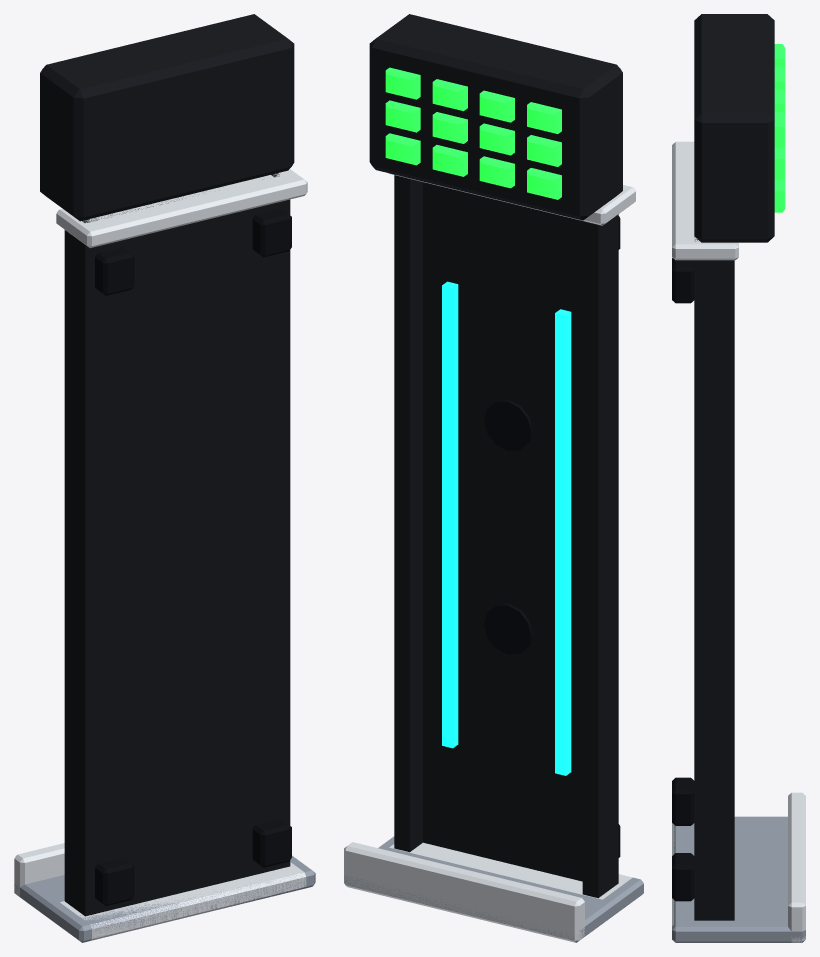
The model's file is ladder_neon.glb.
3 views of the same model, side by side, from view 1: azimuth 30°, elevation 25°; view 2: azimuth 150°, elevation 25°; view 3: azimuth 270°, elevation 25° (orthographic). The views are drawn at different scales.
Parts seen in each view (by area): view 1: ladder_neon_MID_deco_body, ladder_neon_TOP_deco_body, ladder_neon_BOT_deco_body, ladder_neon_BOT_chrome, ladder_neon_TOP_chrome, ladder_neon_BOT_deco_checker, ladder_neon_BOT_deco_trim, ladder_neon_TOP_deco_trim; view 2: ladder_neon_MID_deco_body, ladder_neon_TOP_deco_body, ladder_neon_BOT_deco_body, ladder_neon_MID_deco_neon, ladder_neon_BOT_chrome, ladder_neon_TOP_deco_led, ladder_neon_MID_deco_trim, ladder_neon_BOT_deco_checker, ladder_neon_TOP_chrome; view 3: ladder_neon_TOP_deco_body, ladder_neon_MID_deco_body, ladder_neon_BOT_deco_checker, ladder_neon_TOP_chrome, ladder_neon_BOT_deco_body, ladder_neon_BOT_chrome, ladder_neon_BOT_deco_trim, ladder_neon_TOP_deco_led, ladder_neon_TOP_deco_trim.
Part boxes in pixels (x1,y1,x2,y2): ladder_neon_MID_deco_body: (64, 272, 290, 833); ladder_neon_TOP_deco_body: (40, 14, 294, 322); ladder_neon_BOT_deco_body: (64, 784, 290, 916); ladder_neon_BOT_chrome: (14, 843, 306, 940); ladder_neon_TOP_chrome: (56, 169, 307, 248); ladder_neon_BOT_deco_checker: (14, 855, 315, 942); ladder_neon_BOT_deco_trim: (95, 819, 291, 905); ladder_neon_TOP_deco_trim: (95, 208, 291, 295); ladder_neon_MID_deco_body: (394, 251, 618, 815); ladder_neon_TOP_deco_body: (369, 14, 622, 306); ladder_neon_BOT_deco_body: (394, 760, 618, 898); ladder_neon_MID_deco_neon: (442, 281, 571, 775); ladder_neon_BOT_chrome: (344, 842, 632, 942); ladder_neon_TOP_deco_led: (385, 67, 561, 199); ladder_neon_MID_deco_trim: (484, 400, 532, 654); ladder_neon_BOT_deco_checker: (344, 836, 643, 940); ladder_neon_TOP_chrome: (388, 173, 635, 225); ladder_neon_TOP_deco_body: (694, 14, 774, 338); ladder_neon_MID_deco_body: (694, 339, 734, 839); ladder_neon_BOT_deco_checker: (672, 816, 805, 942); ladder_neon_TOP_chrome: (672, 141, 738, 260); ladder_neon_BOT_deco_body: (694, 840, 734, 920); ladder_neon_BOT_chrome: (672, 792, 805, 942); ladder_neon_BOT_deco_trim: (672, 777, 694, 901); ladder_neon_TOP_deco_led: (774, 44, 785, 212); ladder_neon_TOP_deco_trim: (672, 258, 694, 303).
Bounding box in the file's own units: 0.3 × 1.02 × 0.15.
